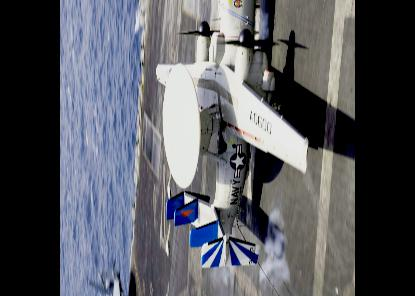C5: (156, 0, 310, 268)
F15: (85, 255, 143, 295)
